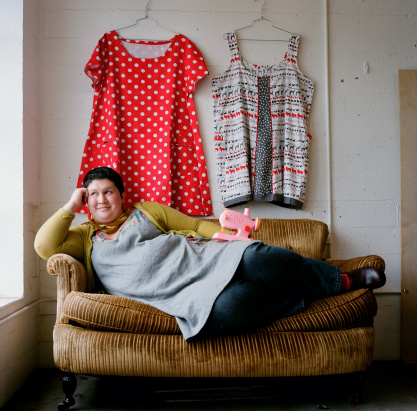deitado: (38, 141, 259, 348)
